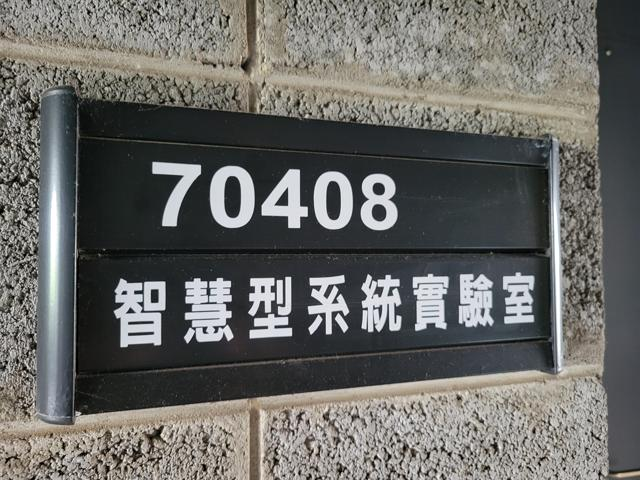doorplate: (24, 71, 574, 431)
